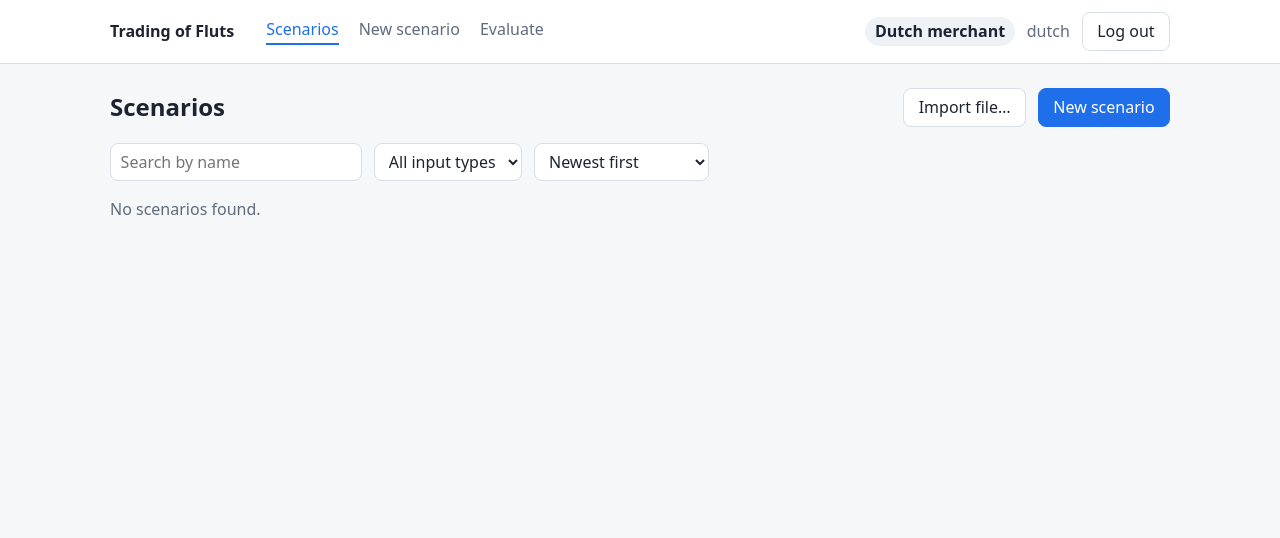
it: App › navigates between the pages
What coordinates should you click on to do the following:
click the link "Evaluate"
I would click on:
 (512, 31)
Its box is top-left (480, 17), bottom-right (544, 45).
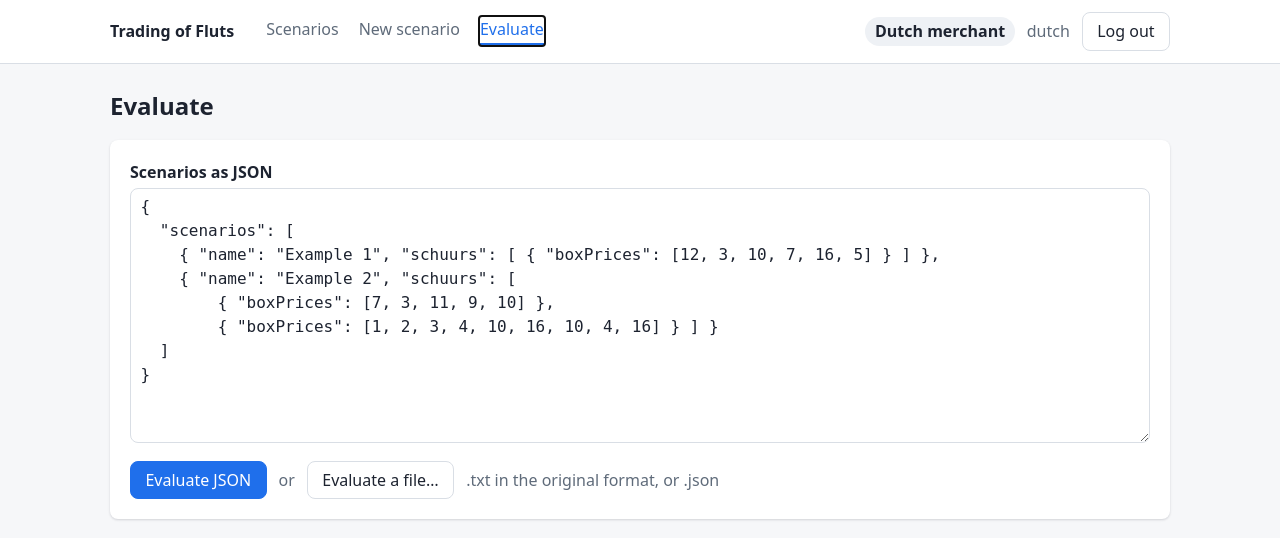
Expected: the heading "Evaluate" is shown, top-left (110, 89), bottom-right (214, 122)
What coordinates should you click on to do the following:
click the link "Trading of Fluts"
I would click on:
 (172, 31)
Its box is top-left (110, 19), bottom-right (234, 43).
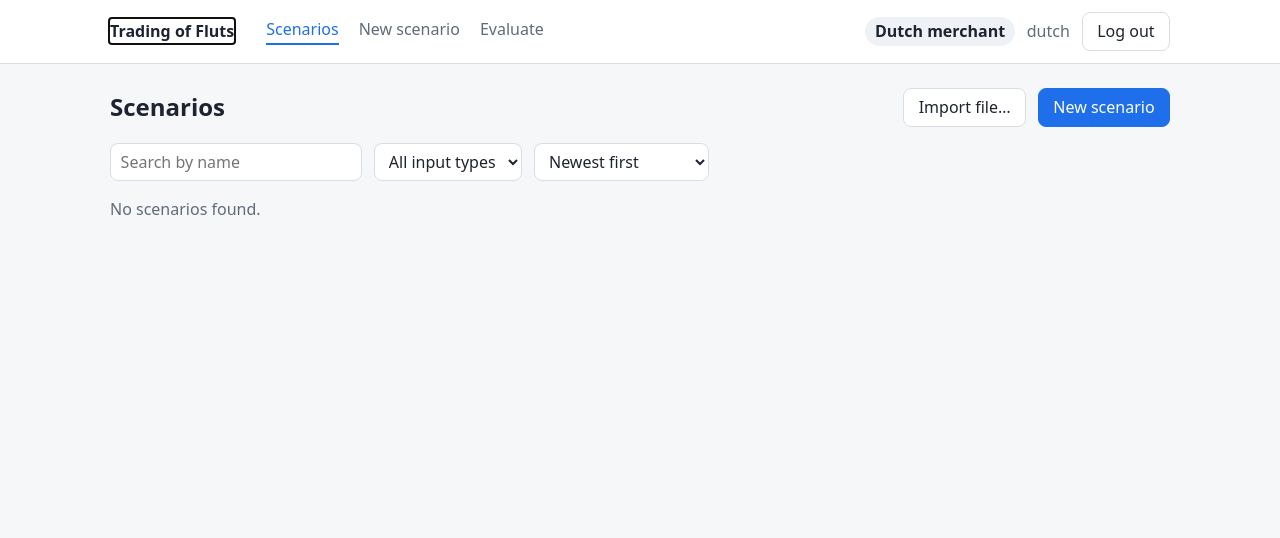
Expected: the text "No scenarios found." is shown, top-left (110, 198), bottom-right (261, 220)
